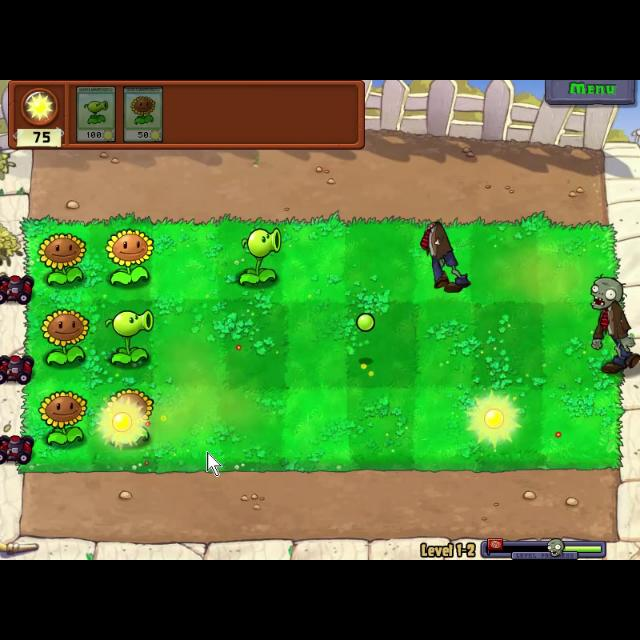Garden: (12, 212, 622, 473)
Menu Button: (544, 80, 636, 104)
Mower: (0, 430, 38, 466), (1, 272, 34, 308), (0, 356, 34, 384)
Peashooter: (73, 82, 119, 144)
Peashooter Seed: (101, 306, 151, 366), (236, 226, 284, 288)
Seed Panel: (7, 80, 367, 152)
Sun: (468, 390, 522, 450), (92, 394, 148, 448)
Sunflower: (122, 80, 166, 148)
Sunflower Seed: (32, 224, 90, 288), (38, 306, 92, 368), (103, 228, 159, 286), (34, 391, 90, 447), (104, 387, 156, 445)
Zombie: (582, 277, 640, 375), (419, 219, 478, 299)
